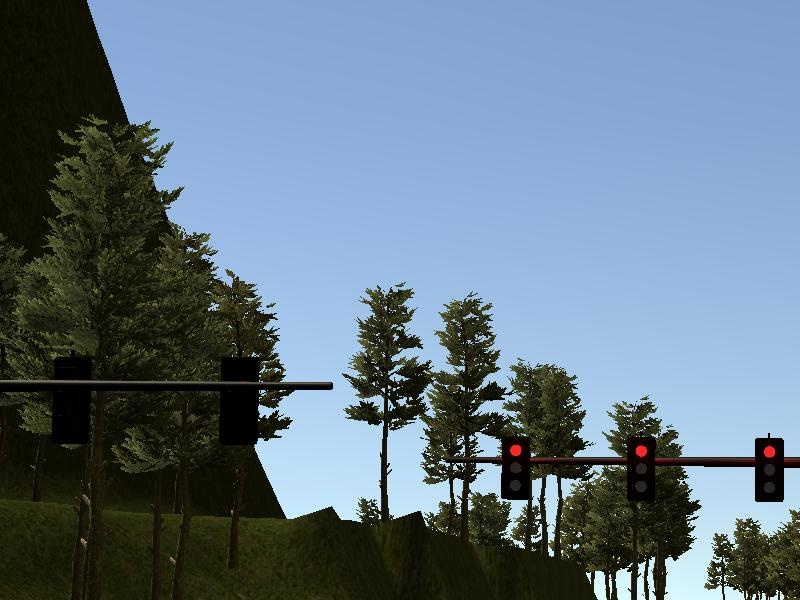Red: (625, 437, 656, 503), (754, 437, 784, 502), (501, 438, 531, 499)
